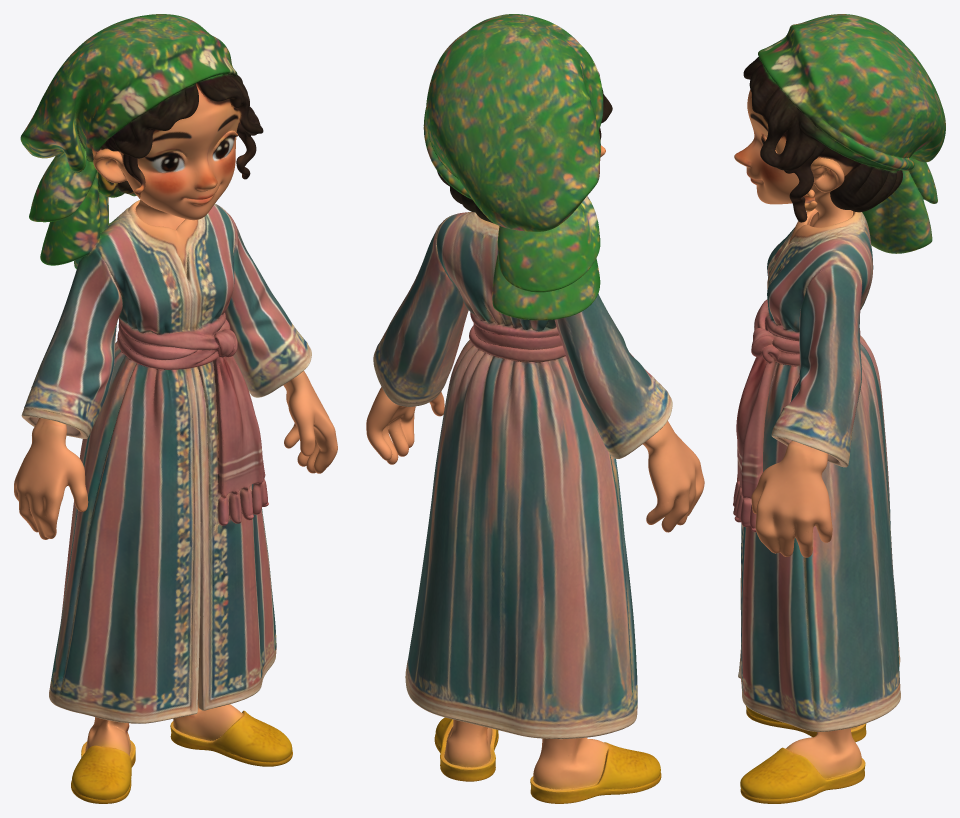
File: girl2__base_basic_pbr.glb
3 views of the same model, side by side, from view 1: azimuth 30°, elevation 25°; view 2: azimuth 150°, elevation 25°; view 3: azimuth 270°, elevation 25° (orthographic). The views are drawn at different scales.
Parts seen in each view (by area): view 1: model; view 2: model; view 3: model.
Part boxes in pixels (<box>): model: <box>14,14,337,803</box>; model: <box>366,14,704,803</box>; model: <box>733,14,945,803</box>.
Size of the model in its own units: 0.8387 by 1.9 by 0.5029.
1 material, 1 textured.
